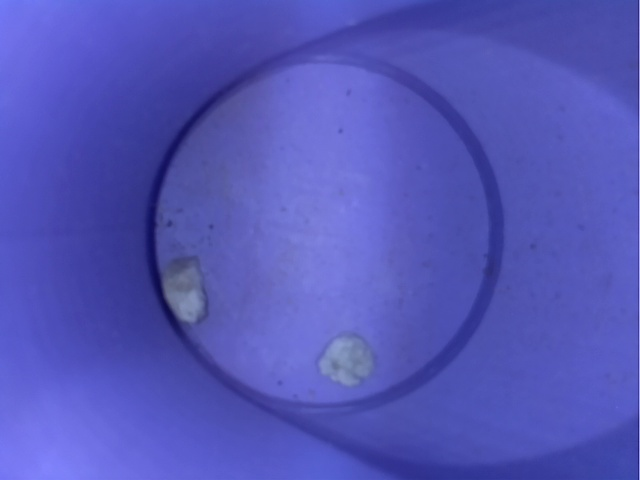caillou: (294, 325, 385, 402), (147, 246, 223, 336)
